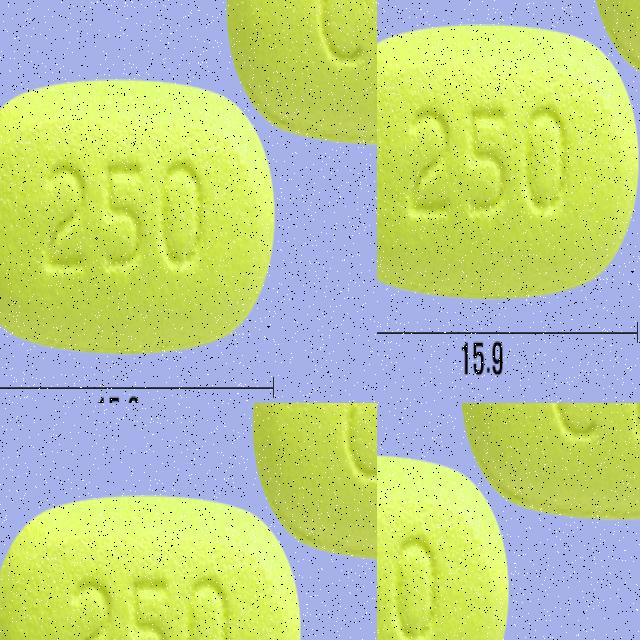Aclova 400mg: (377, 0, 577, 306)
Ciroxacin: (0, 0, 213, 359), (243, 0, 377, 358)
Clao: (377, 449, 517, 640), (456, 403, 640, 523)
Cravit: (0, 546, 285, 640), (256, 403, 377, 523)
